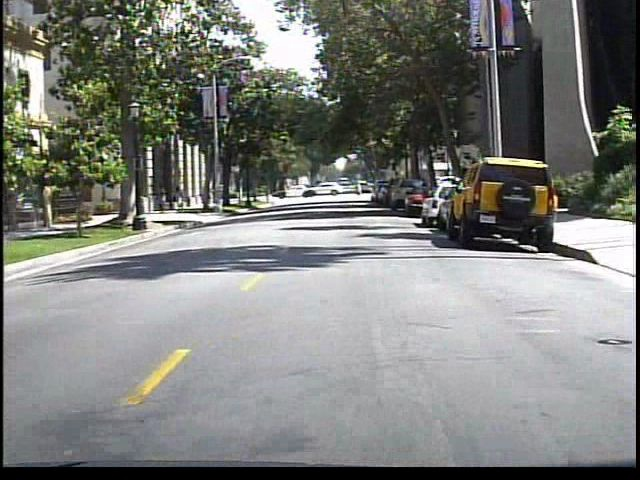person: (172, 183, 192, 215), (157, 181, 174, 214), (355, 180, 369, 203)
